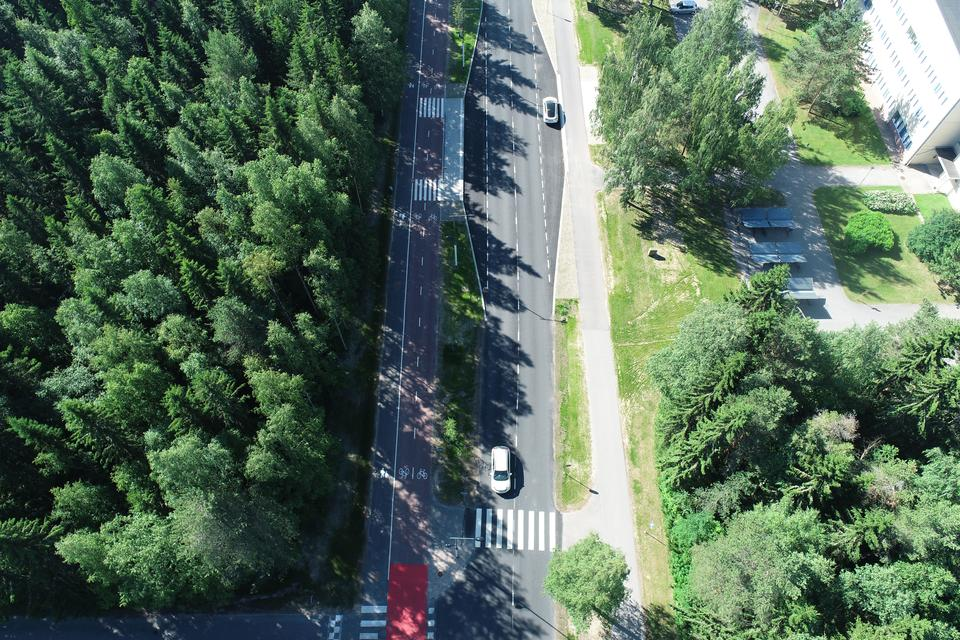intersection: (351, 489, 649, 574), (324, 592, 571, 640)
